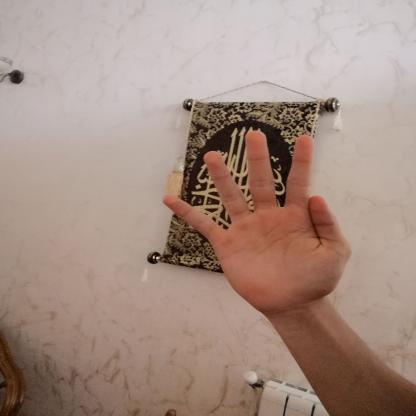SHEEN: (153, 118, 363, 329)
